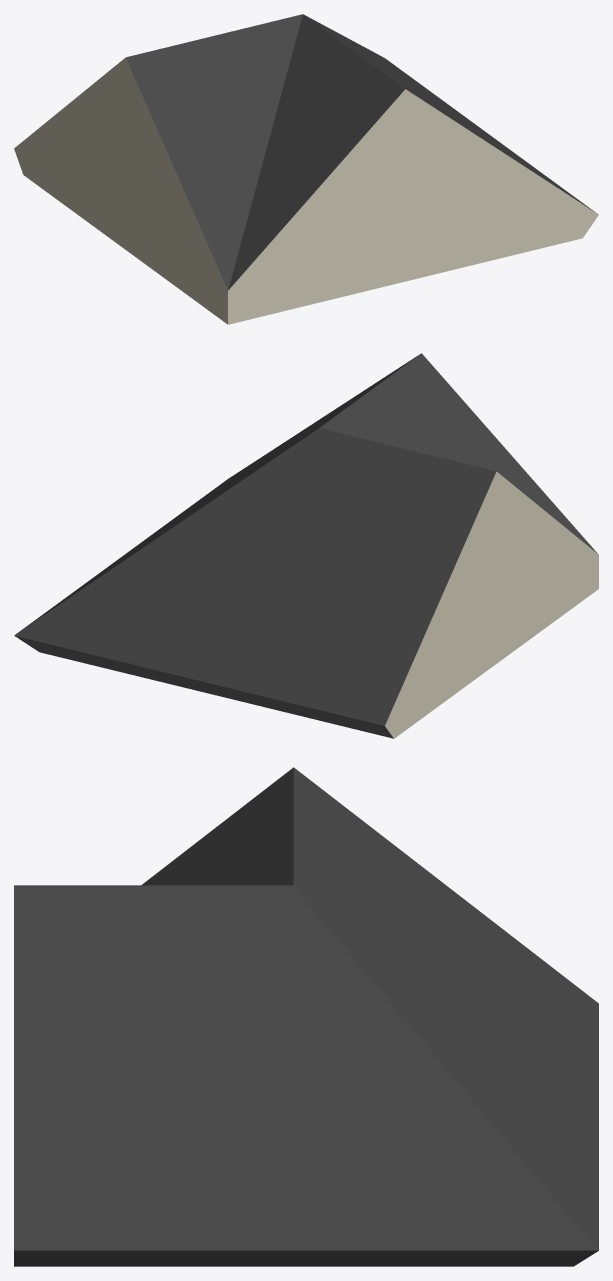
Rendered from roof2.obj.
The picture shows the model from 3 angles, top to bottom: view 1: azimuth 30°, elevation 25°; view 2: azimuth 150°, elevation 25°; view 3: azimuth 270°, elevation 25°; orthographic projection. The views are drawn at different scales.
Parts seen in each view (by area): view 1: roof2; view 2: roof2; view 3: roof2.
Boxes of the visible parts, x1,y1,x2,y2 form: roof2: (14,14,598,324); roof2: (14,353,598,738); roof2: (14,767,598,1266).
Bounding box in the file's own units: 1.05 × 0.5188 × 1.05.
